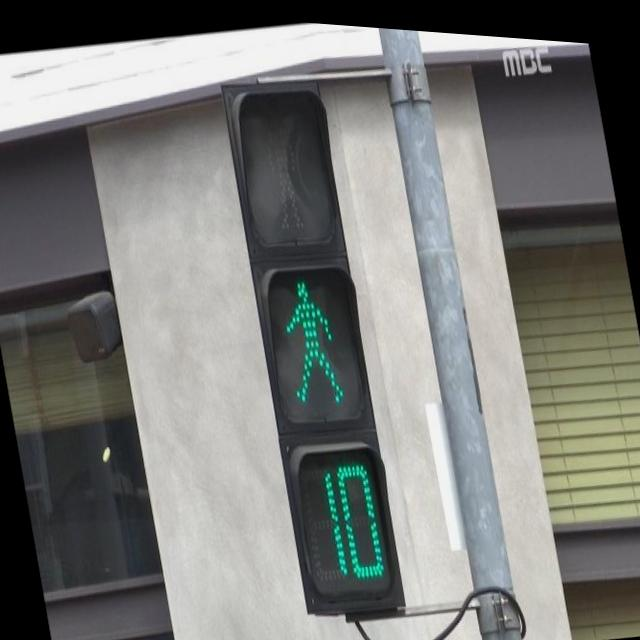green_light: (266, 255, 399, 604)
